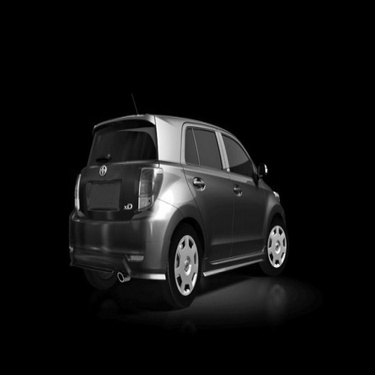car: (64, 78, 304, 312)
